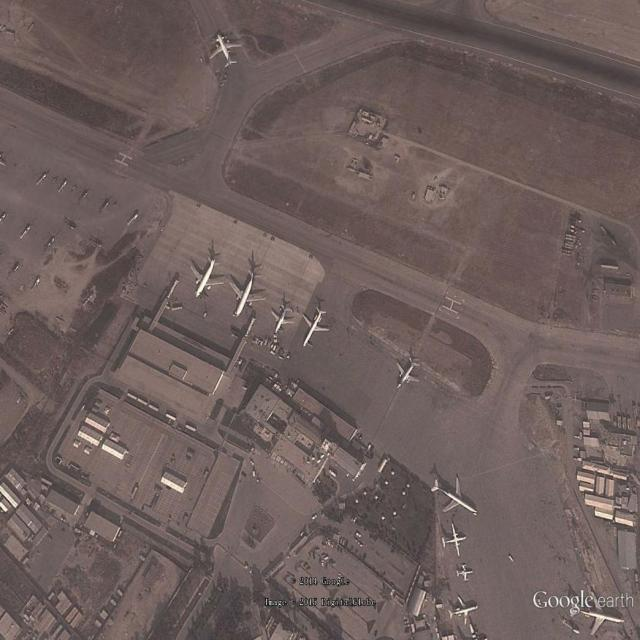aircraft: (429, 471, 482, 519), (229, 270, 267, 320), (208, 28, 245, 74), (190, 256, 227, 301), (447, 589, 479, 629), (302, 307, 332, 349), (394, 354, 424, 392), (442, 522, 467, 559), (270, 303, 297, 336), (455, 561, 475, 585)
